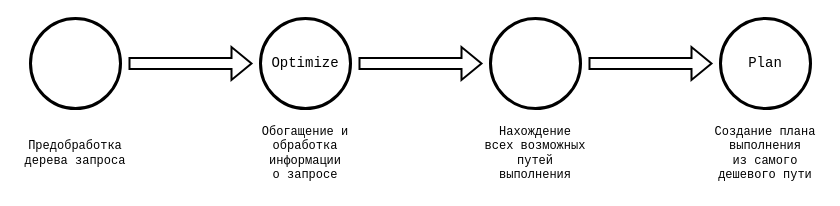
The diagram is 840 pixels wide and 206 high, and some of its shapes have lost their labels. The centre of each missing label's shape, as x and y in pixels:
Paths: the point at 535,63
Preprocess: the point at 75,63
